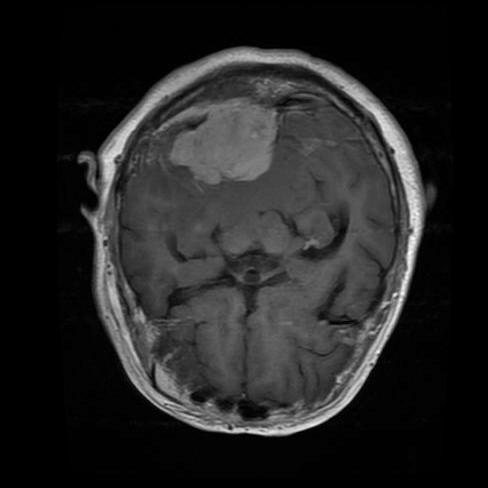Tumour-Meningioma: (133, 81, 296, 208)
